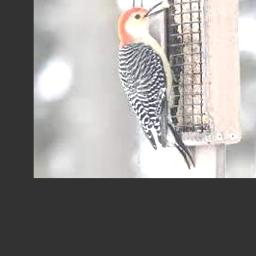Woodpecker: (118, 0, 195, 169)
